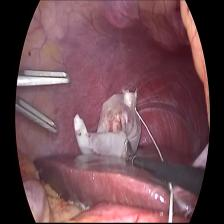Grasper: (17, 68, 74, 136), (124, 139, 139, 166)
Specimen Bag: (71, 86, 148, 158)
